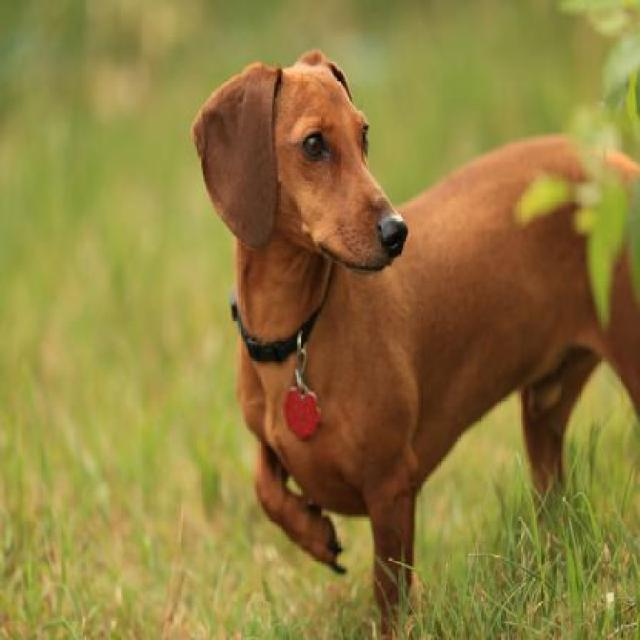Dog: (187, 41, 638, 638)
